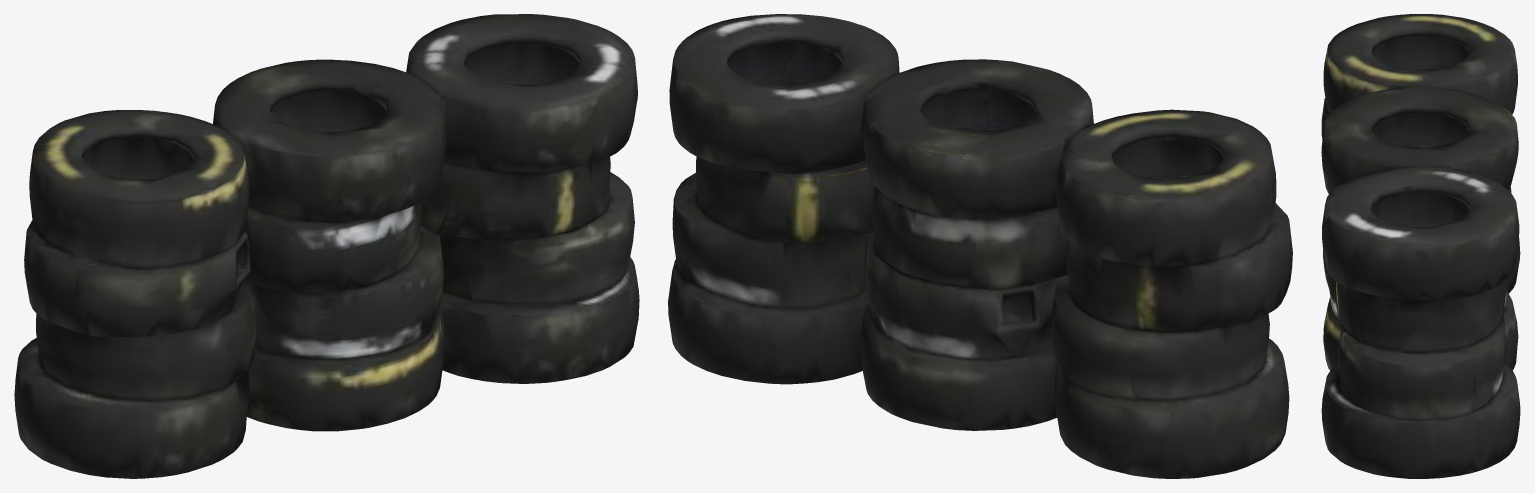
Rendered from prop-tires.glb.
3 views of the same model, side by side, from view 1: azimuth 30°, elevation 25°; view 2: azimuth 150°, elevation 25°; view 3: azimuth 270°, elevation 25° (orthographic). The views are drawn at different scales.
Parts seen in each view (by area): view 1: Mesh_0; view 2: Mesh_0; view 3: Mesh_0.
Part boxes in pixels (x1=…): Mesh_0: x1=14, y1=14, x2=639, y2=478; Mesh_0: x1=668, y1=14, x2=1292, y2=478; Mesh_0: x1=1321, y1=14, x2=1520, y2=478.
Bounding box in the file's own units: 1.91 × 0.8761 × 0.6627.
Materials: 1 (1 with a texture image).
